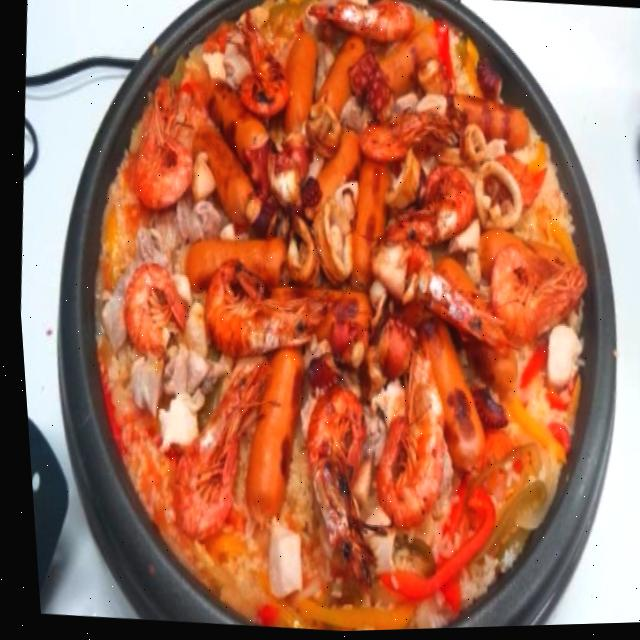熟制海鲜: (0, 0, 640, 607)
